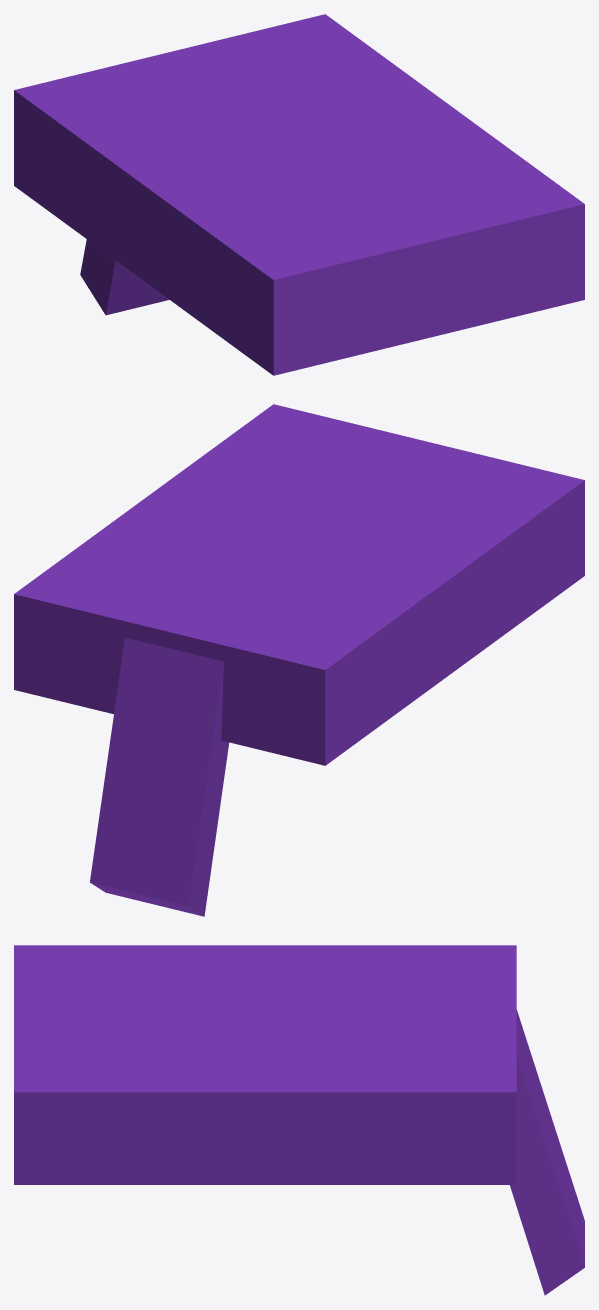
File: purple_headband.glb
3 views of the same model, one above another, from view 1: azimuth 30°, elevation 25°; view 2: azimuth 150°, elevation 25°; view 3: azimuth 270°, elevation 25° (orthographic). The views are drawn at different scales.
Visible parts, largest first — view 1: mesh; view 2: mesh; view 3: mesh.
Boxes of the visible parts, x1,y1,x2,y2 form: mesh: [14, 14, 584, 375]; mesh: [14, 404, 584, 916]; mesh: [14, 945, 584, 1295].
Bounding box in the file's own units: 0.7133 × 0.5734 × 1.17.
Materials: 1 (1 with a texture image).
